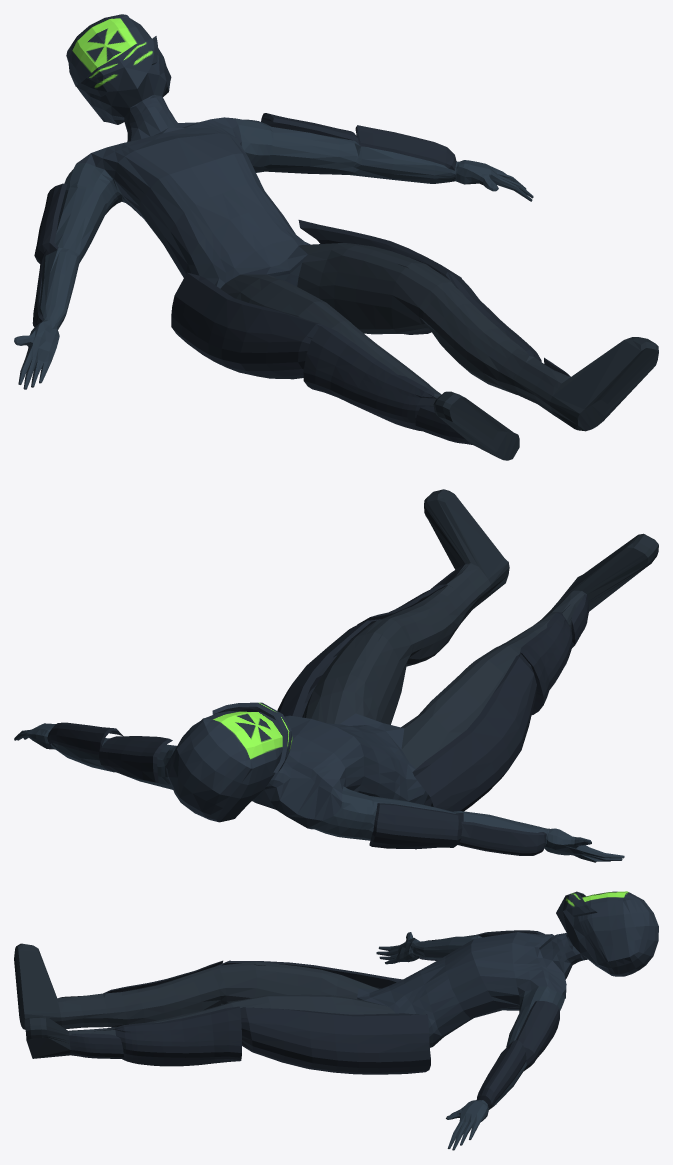
Rendered from Bastion_Die_000011.obj.
3 renders of one model, top to bottom at view 1: azimuth 30°, elevation 25°; view 2: azimuth 150°, elevation 25°; view 3: azimuth 270°, elevation 25°, orthographic. The views are drawn at different scales.
Parts seen in each view (by area): view 1: Cube.002; view 2: Cube.002; view 3: Cube.002.
Part boxes in pixels (x1,y1,x2,y2): Cube.002: (14, 14, 658, 460); Cube.002: (14, 489, 658, 862); Cube.002: (14, 891, 658, 1150).
Size of the model in its own units: 3.01 by 1.11 by 3.82.
